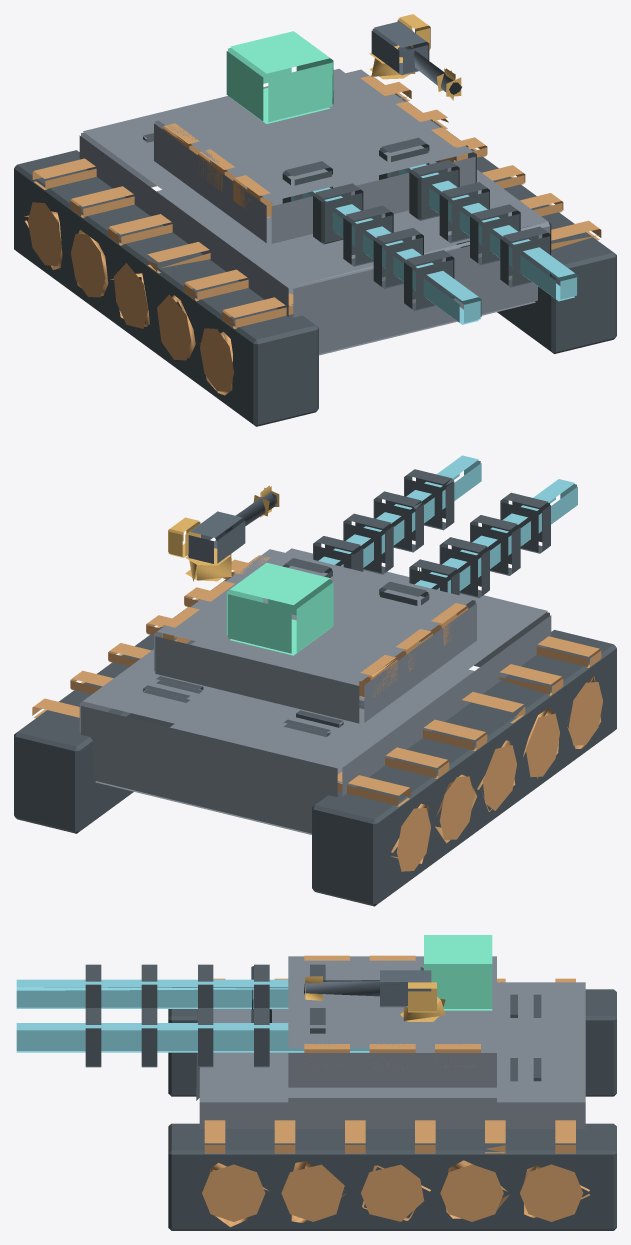
File: boss-rail.glb
3 views of the same model, one above another, from view 1: azimuth 30°, elevation 25°; view 2: azimuth 150°, elevation 25°; view 3: azimuth 270°, elevation 25° (orthographic). The views are drawn at different scales.
Visible parts, largest first — view 1: Track, Chassis, TurretArmor, Tread, Coil, Core, Rail, Detail reactive plate, Auxiliary receiver, Auxiliary swivel; view 2: Chassis, Track, TurretArmor, Tread, Coil, Core, Rail, Detail reactive plate, Auxiliary receiver, Auxiliary swivel; view 3: Track, Chassis, TurretArmor, Tread, Rail, Coil, Core, Auxiliary receiver, Detail reactive plate, Auxiliary swivel.
Boxes of the visible parts, <box> form: Track: <box>14,79,616,426</box>; Chassis: <box>79,68,551,355</box>; TurretArmor: <box>154,69,476,243</box>; Tread: <box>24,82,601,395</box>; Coil: <box>282,137,550,310</box>; Core: <box>226,31,333,123</box>; Rail: <box>291,164,577,324</box>; Detail reactive plate: <box>162,75,468,217</box>; Auxiliary receiver: <box>371,21,461,92</box>; Auxiliary swivel: <box>369,14,461,100</box>; Chassis: <box>79,548,551,834</box>; Track: <box>14,557,616,906</box>; TurretArmor: <box>154,549,476,723</box>; Tread: <box>32,559,602,871</box>; Coil: <box>282,469,550,641</box>; Core: <box>226,562,333,655</box>; Rail: <box>318,455,577,593</box>; Detail reactive plate: <box>162,555,468,697</box>; Auxiliary receiver: <box>187,491,276,563</box>; Auxiliary swivel: <box>168,485,279,581</box>; Track: <box>168,989,616,1230</box>; Chassis: <box>196,982,585,1128</box>; TurretArmor: <box>288,956,496,1102</box>; Tread: <box>202,978,589,1227</box>; Rail: <box>16,979,369,1052</box>; Coil: <box>85,964,325,1067</box>; Core: <box>420,935,492,1010</box>; Auxiliary receiver: <box>305,970,431,1007</box>; Detail reactive plate: <box>304,955,480,1068</box>; Auxiliary swivel: <box>305,976,445,1021</box>.
Bounding box in the file's own units: 4.21 × 2.55 × 6.45.
